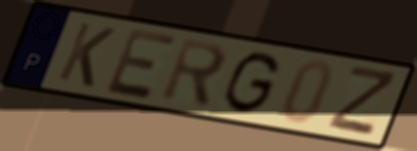0: (277, 58, 339, 127)
E: (103, 26, 182, 102)
G: (220, 50, 283, 117)
K: (54, 20, 118, 91)
R: (157, 36, 230, 112)
Z: (324, 64, 400, 139)
